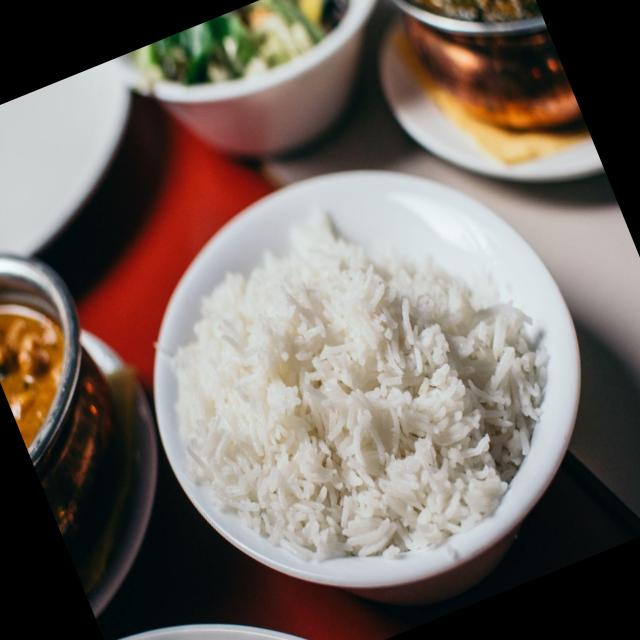rice: (169, 214, 542, 552)
